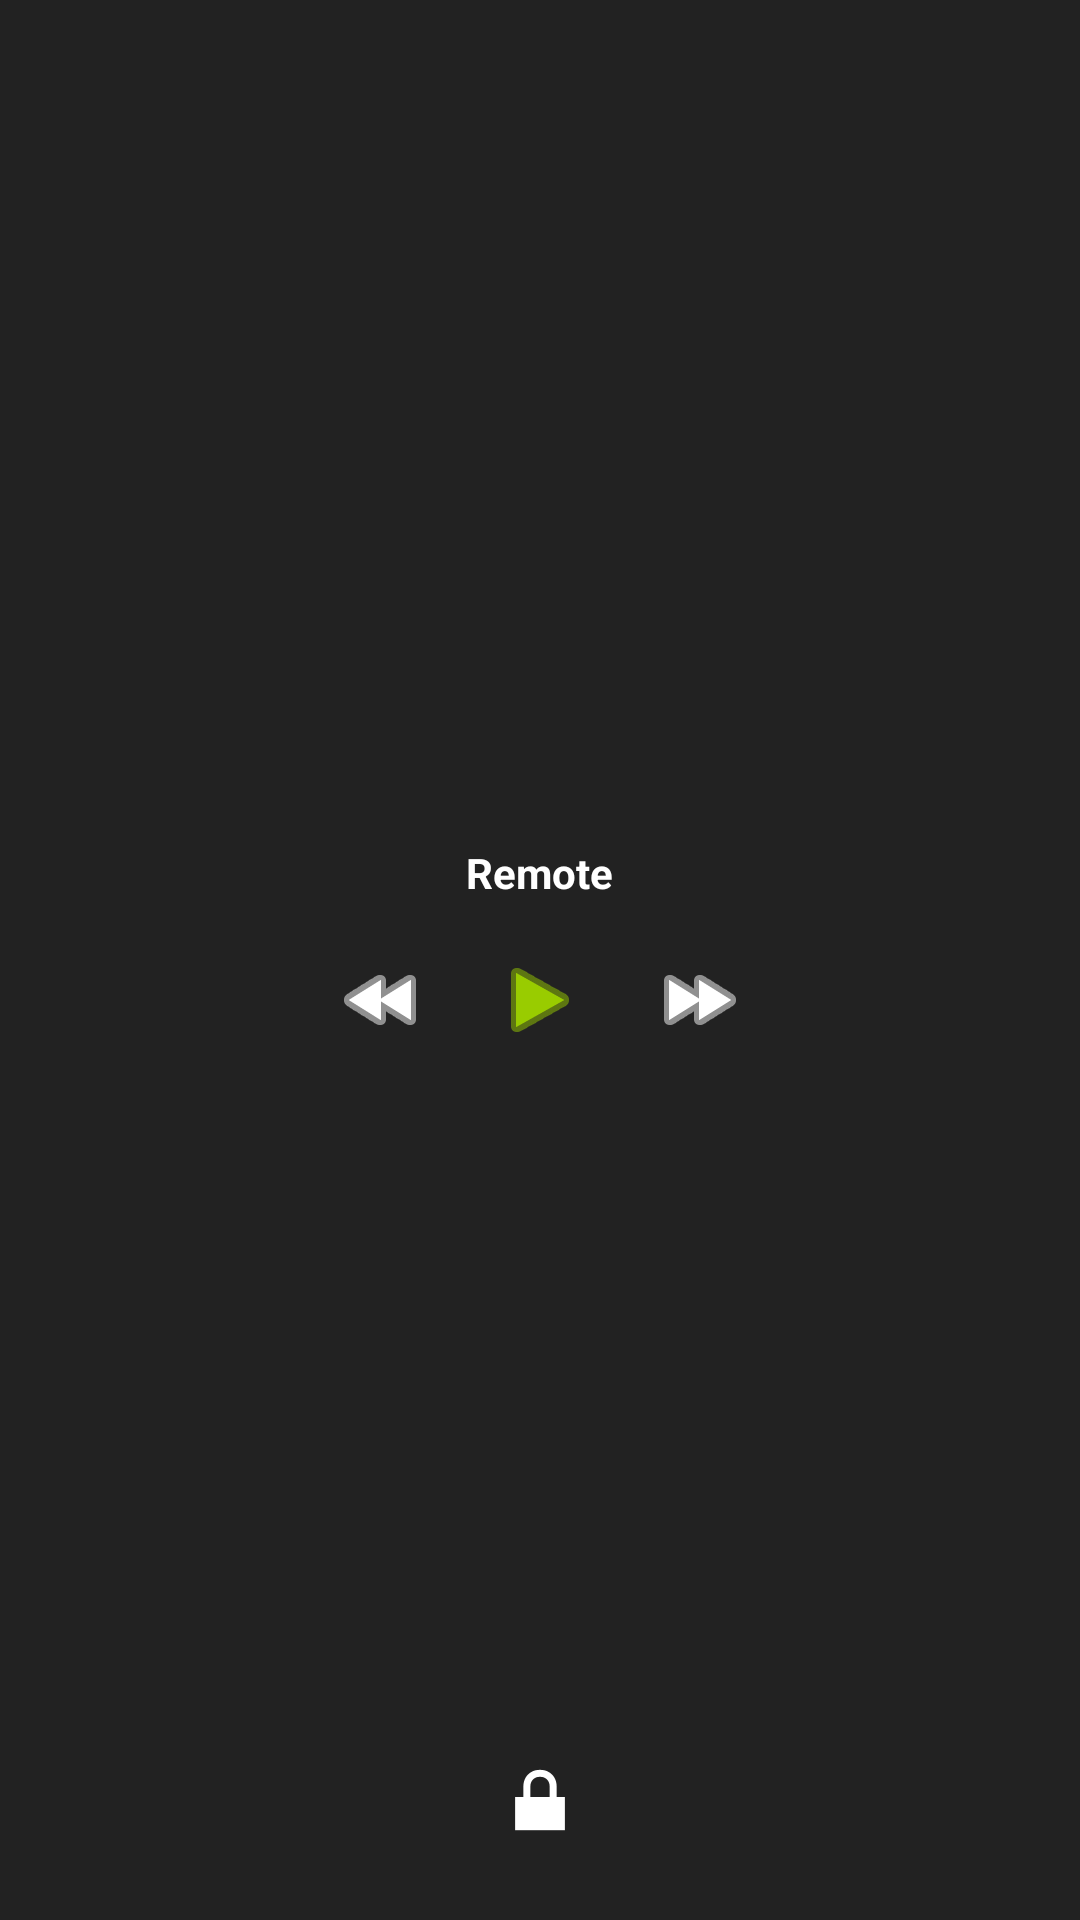

Where to tap for icons on this 1080 × 1920 app screen, as point (x, y):
Fast Forward: point (700, 1000)
lock: point (540, 1800)
Play: point (540, 1000)
Rewind: point (380, 1000)
